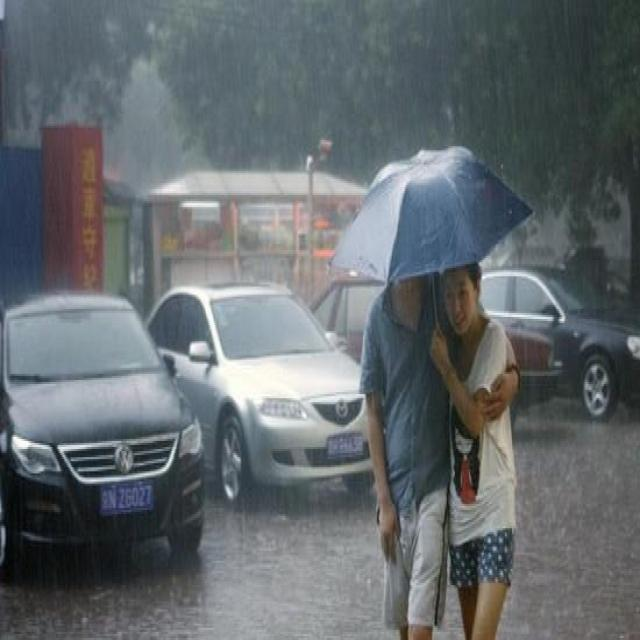car: (0, 292, 200, 565), (134, 284, 380, 502), (276, 272, 556, 427), (446, 264, 638, 419)
